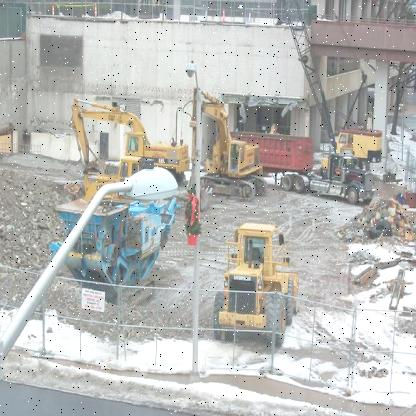excavator: (60, 95, 191, 190), (181, 76, 270, 198)
